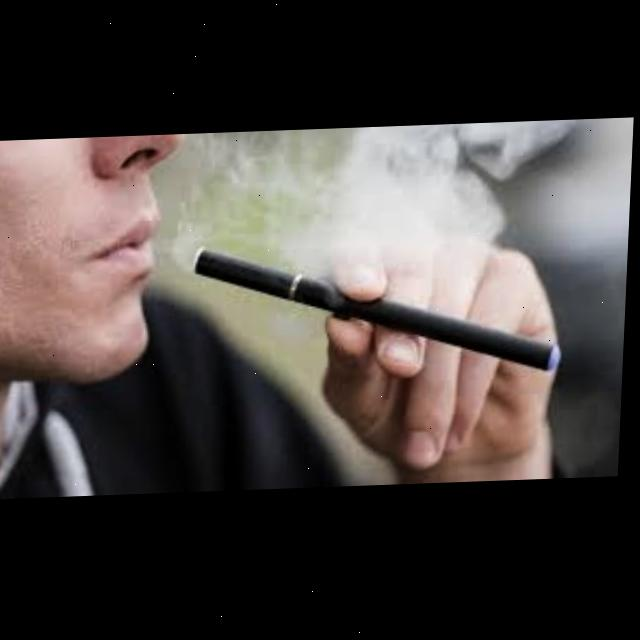vape: (191, 235, 568, 387)
